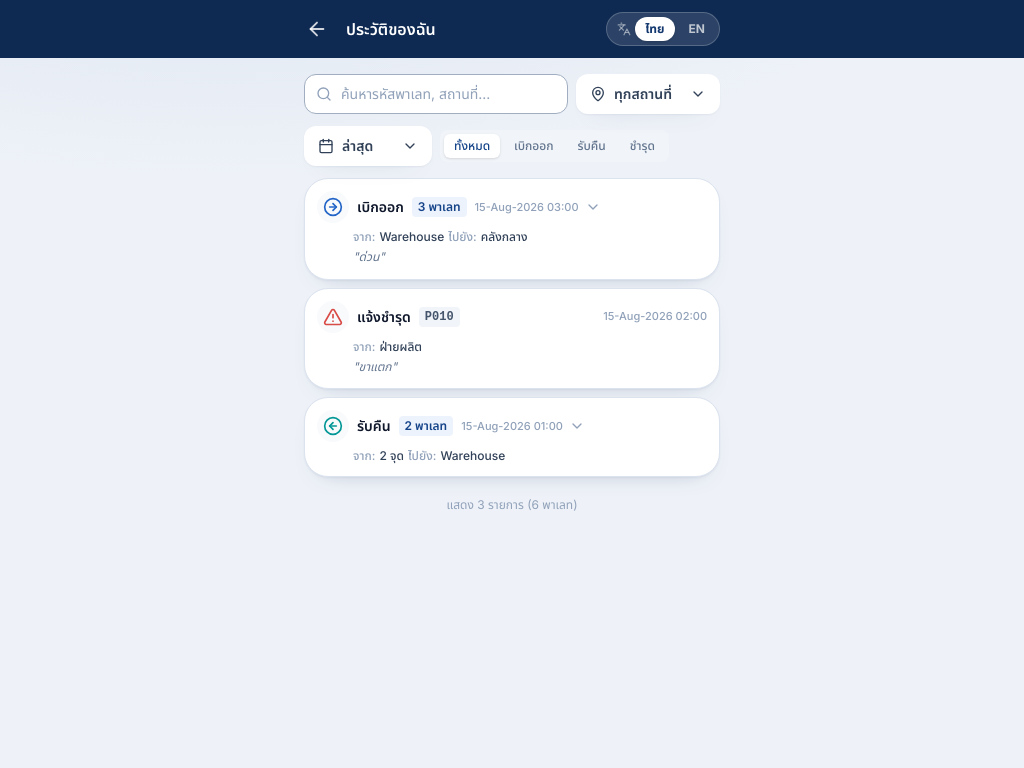
Test case: MobileHistory -- การจัดกลุ่มเป็นชุด › กดที่การ์ดแล้วเห็นรหัสของทุกพาเลทในชุดนั้น
Click the button "เบิกออก".
click(512, 229)  # box left=317, top=191, right=707, bottom=266
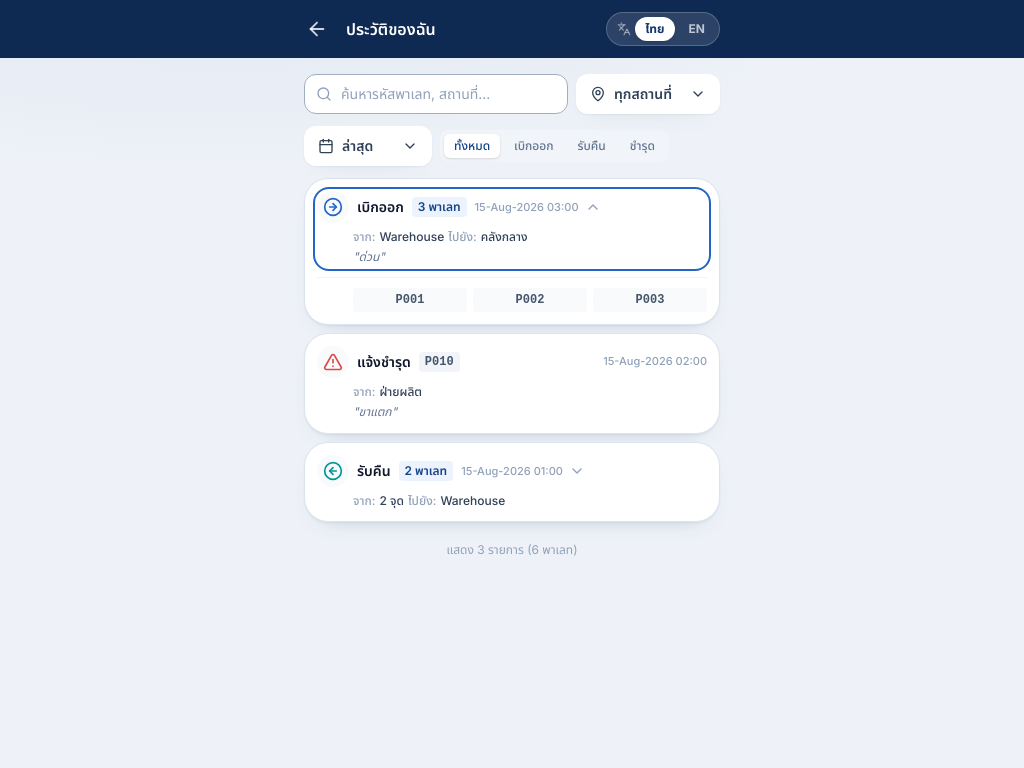
Expected: the button "เบิกออก" is expanded, left=317, top=191, right=707, bottom=266
Expected: the list item "P001" is shown, left=353, top=288, right=467, bottom=312
Expected: the list item "P002" is shown, left=473, top=288, right=587, bottom=312
